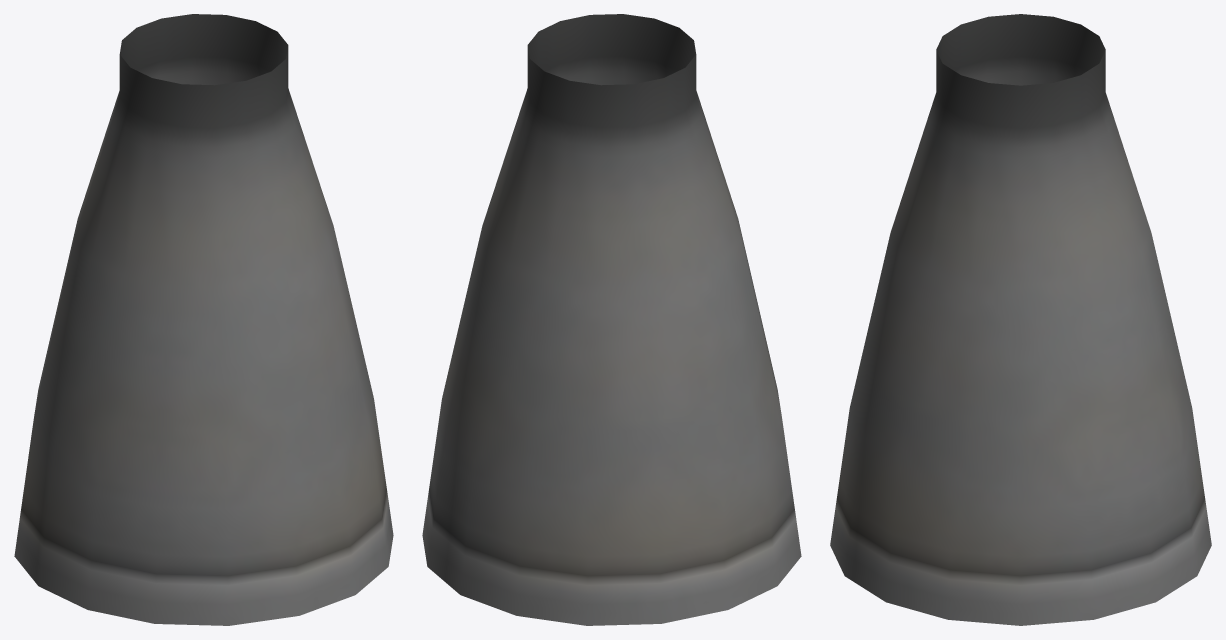
File: TLV_0_Engine_1_Vernier.obj
3 renders of one model, left to right at view 1: azimuth 30°, elevation 25°; view 2: azimuth 150°, elevation 25°; view 3: azimuth 270°, elevation 25°, orthographic.
Parts seen in each view (by area): view 1: TLV_0_Engine_1_Vernier; view 2: TLV_0_Engine_1_Vernier; view 3: TLV_0_Engine_1_Vernier.
Part boxes in pixels (box(x1,y1,x2,y2)): TLV_0_Engine_1_Vernier: box(14, 14, 393, 625); TLV_0_Engine_1_Vernier: box(422, 14, 801, 625); TLV_0_Engine_1_Vernier: box(830, 14, 1211, 625).
Size of the model in its own units: 0.2025 by 0.29 by 0.2025.
